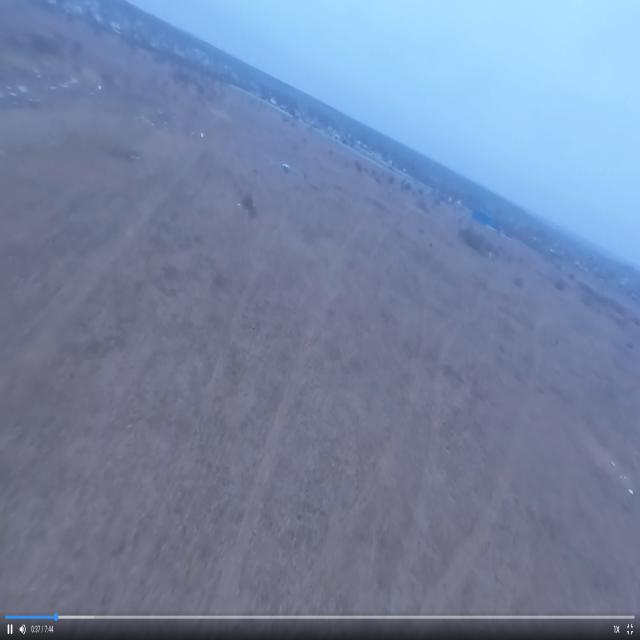planedrone: (274, 147, 306, 185)
